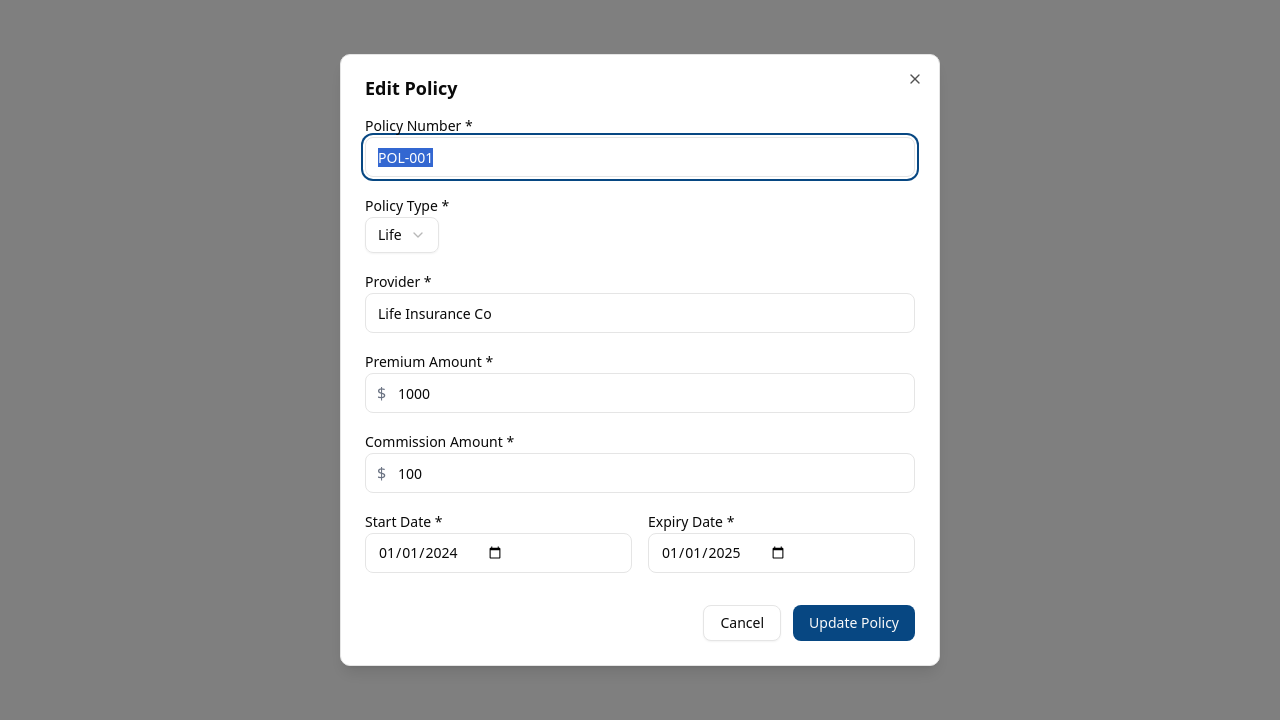
Test: Policy Management Loading States › PolicyModal Loading States › shows different loading text for edit mode
The width and height of the screenshot is (1280, 720).
Click the button "Update Policy": click(854, 623) [793, 605, 915, 641]
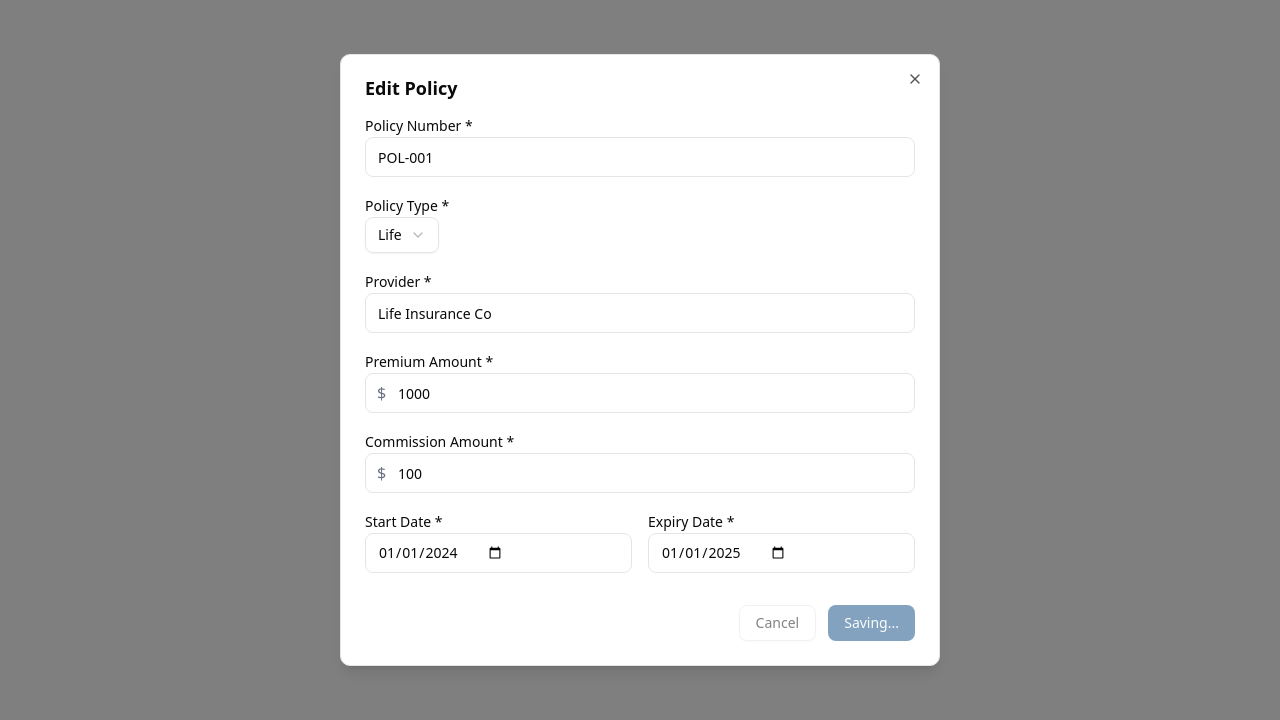
Expected: the button "Saving..." is disabled, [828, 605, 915, 641]
